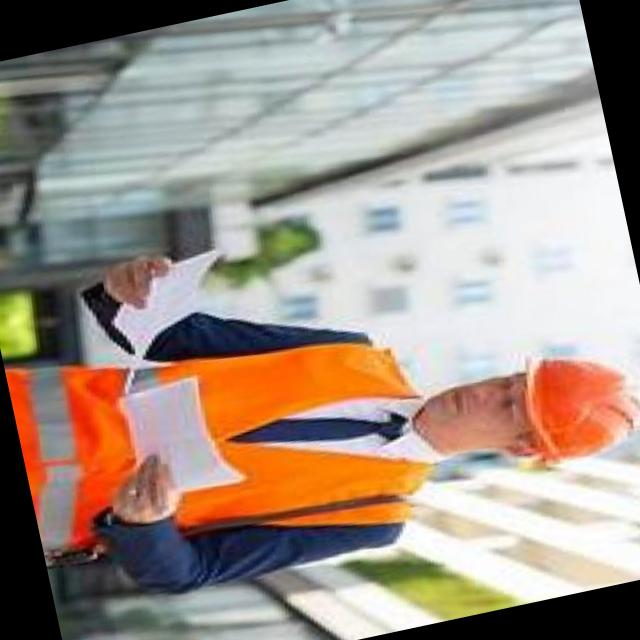not-gloved: (92, 445, 194, 536)
